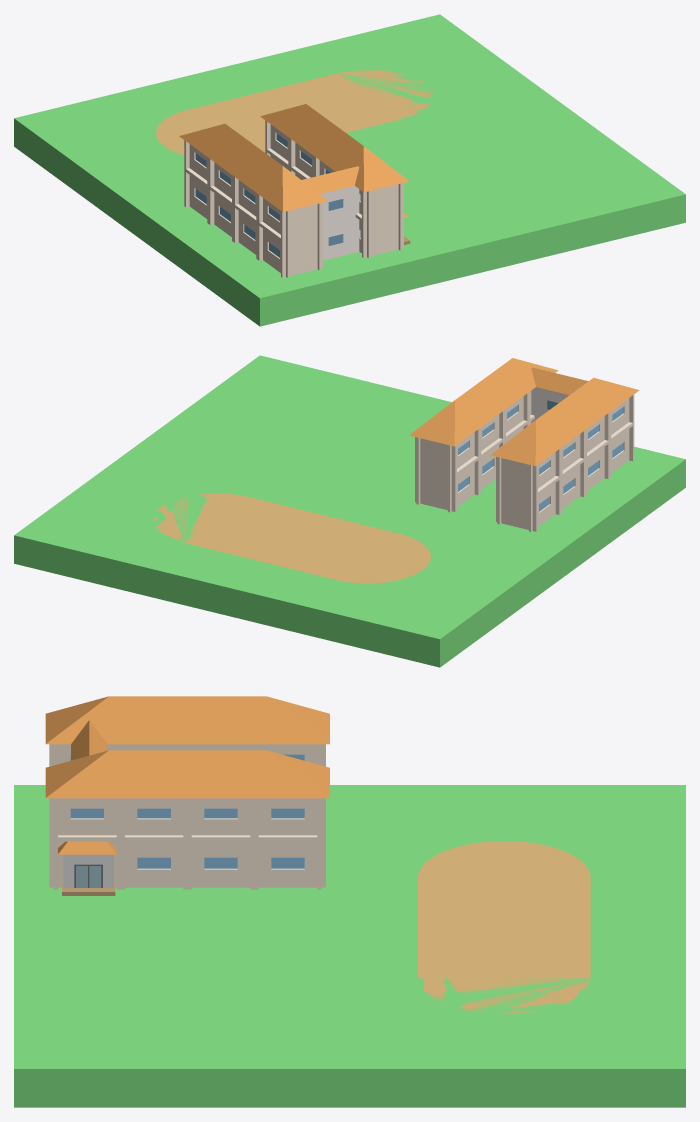
Rendered from school_model (1).fbx.
3 renders of one model, top to bottom at view 1: azimuth 30°, elevation 25°; view 2: azimuth 150°, elevation 25°; view 3: azimuth 270°, elevation 25°, orthographic. The views are drawn at different scales.
Parts seen in each view (by area): view 1: 平面.002; view 2: 平面.002; view 3: 平面.002.
Part boxes in pixels (x1,y1,x2,y2): 平面.002: (14, 14, 685, 326); 平面.002: (14, 355, 685, 667); 平面.002: (14, 696, 685, 1107).
Bounding box in the file's own units: 2532 × 689 × 2532.
